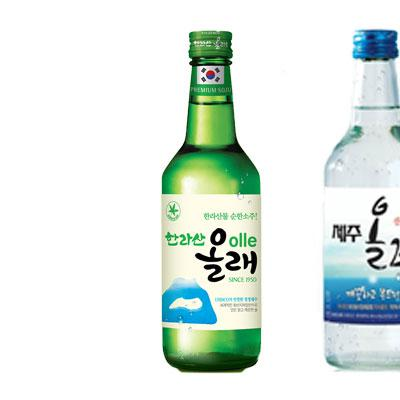soju: (158, 27, 269, 377), (319, 24, 400, 372)
